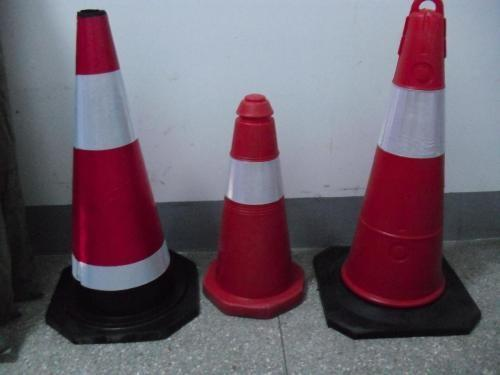cone_barrel: (57, 8, 182, 318), (335, 7, 461, 312), (203, 90, 307, 312)
